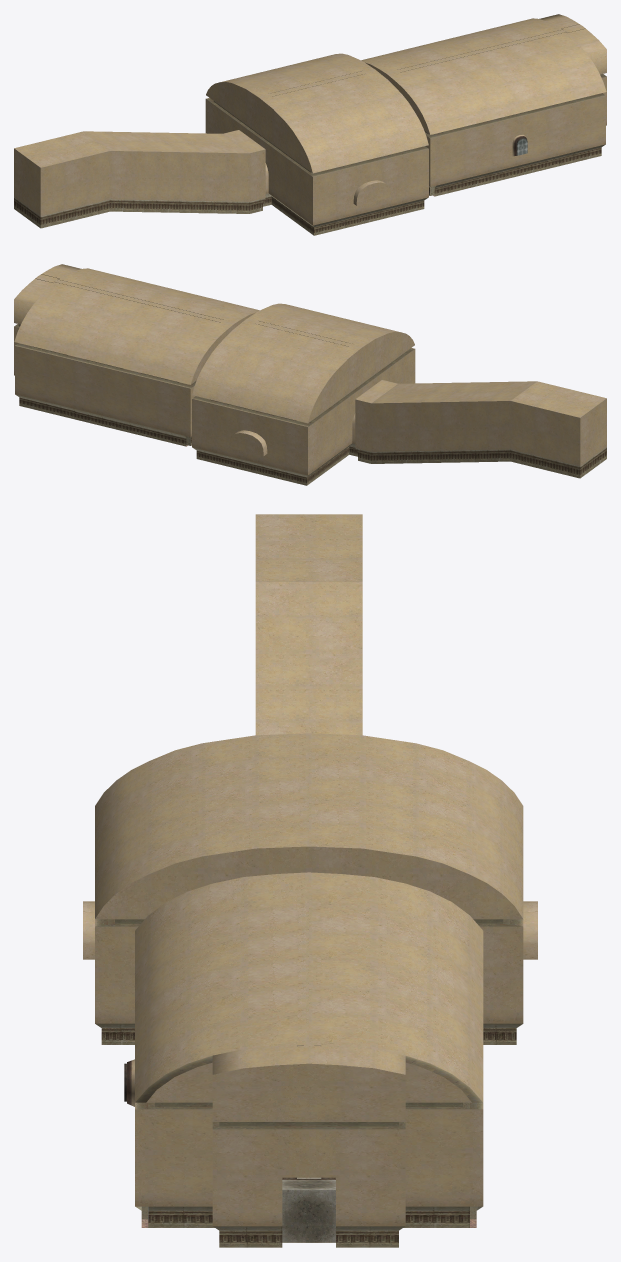
File: jeunoMhMesh.fbx
3 renders of one model, top to bottom at view 1: azimuth 30°, elevation 25°; view 2: azimuth 150°, elevation 25°; view 3: azimuth 270°, elevation 25°, orthographic. The views are drawn at different scales.
Visible parts, largest first — view 1: 0008_m_jun01_t, 0007_m_jun01_b, 0006_m_jun01_a, 0009_m_jun01_a; view 2: 0008_m_jun01_t, 0007_m_jun01_b, 0006_m_jun01_a; view 3: 0008_m_jun01_t, 0007_m_jun01_b, 0006_m_jun01_a, 0009_m_jun01_a, 0015_m_jun01_b.
Boxes of the visible parts, box(x1,y1,x2,y2) form: 0008_m_jun01_t: box(14, 53, 428, 235); 0007_m_jun01_b: box(361, 14, 606, 134); 0006_m_jun01_a: box(424, 74, 606, 196); 0009_m_jun01_a: box(512, 24, 585, 156); 0008_m_jun01_t: box(192, 303, 606, 485); 0007_m_jun01_b: box(14, 264, 259, 384); 0006_m_jun01_a: box(14, 324, 196, 446); 0008_m_jun01_t: box(83, 514, 537, 1044); 0007_m_jun01_b: box(135, 872, 483, 1121); 0006_m_jun01_a: box(135, 1102, 483, 1247); 0009_m_jun01_a: box(124, 1045, 335, 1242); 0015_m_jun01_b: box(135, 1055, 482, 1102).
Size of the model in its own units: 47.9 by 8.3 by 17.
